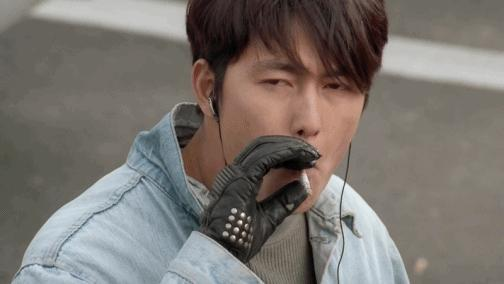cigarette: (299, 166, 315, 198)
